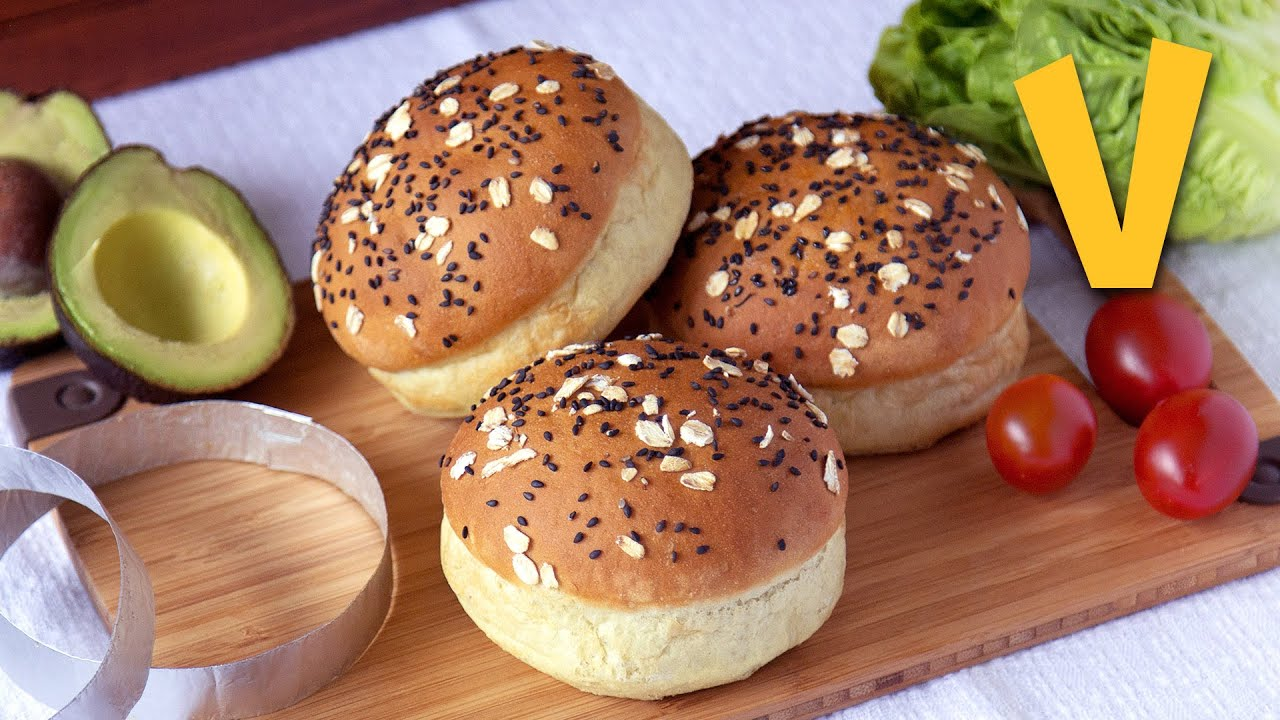hamburger_buns: (398, 317, 933, 709), (325, 57, 707, 398), (651, 109, 1027, 422)
